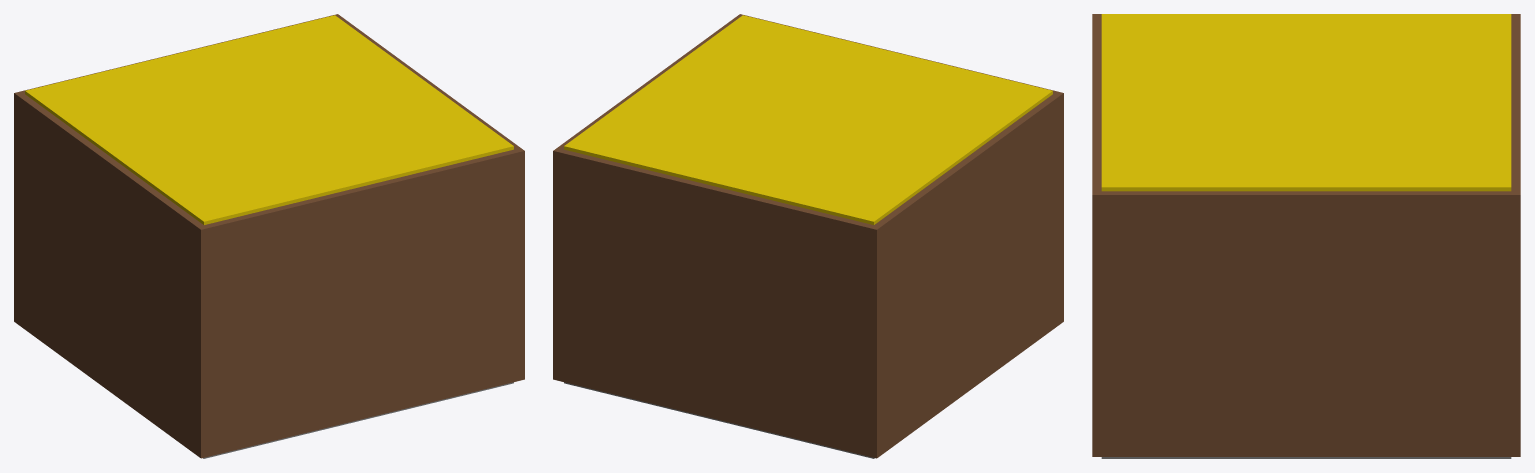
The model's file is karczma_indor.glb.
3 renders of one model, left to right at view 1: azimuth 30°, elevation 25°; view 2: azimuth 150°, elevation 25°; view 3: azimuth 270°, elevation 25°, orthographic. The views are drawn at different scales.
Visible parts, largest first — view 1: Cube, Cube.002, Cube.001; view 2: Cube, Cube.002, Cube.001; view 3: Cube, Cube.002, Cube.001.
Boxes of the visible parts, x1,y1,x2,y2 form: Cube: [14, 14, 524, 458]; Cube.002: [25, 15, 513, 224]; Cube.001: [203, 382, 513, 458]; Cube: [553, 14, 1063, 458]; Cube.002: [564, 15, 1052, 224]; Cube.001: [564, 382, 874, 458]; Cube: [1092, 14, 1520, 456]; Cube.002: [1101, 14, 1511, 191]; Cube.001: [1101, 457, 1511, 458].
Bounding box in the file's own units: 244 × 171 × 244.
